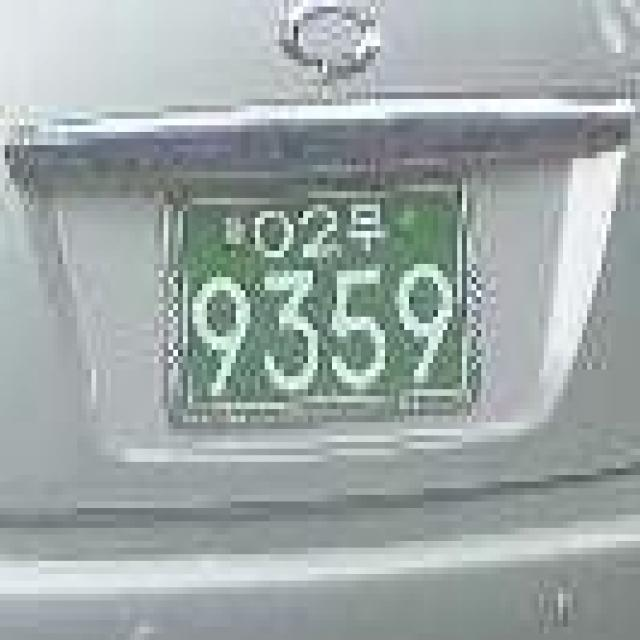illegal_plate: (151, 169, 489, 449)
